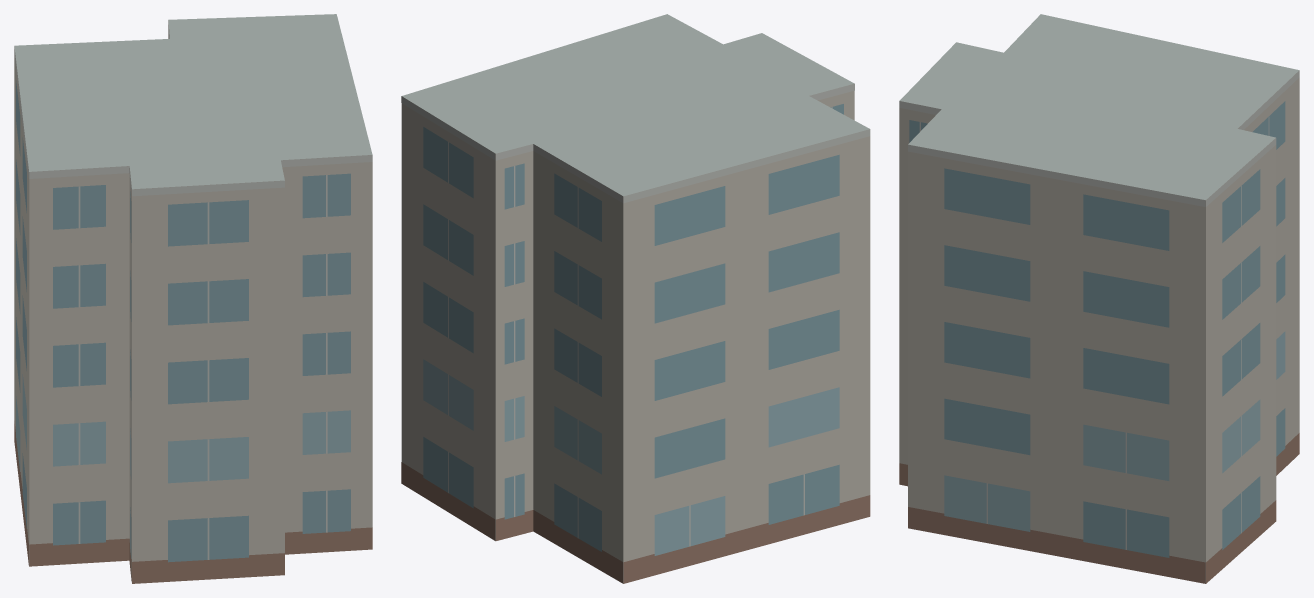
File: survey-upis-32756153.glb
3 renders of one model, left to right at view 1: azimuth 30°, elevation 25°; view 2: azimuth 150°, elevation 25°; view 3: azimuth 270°, elevation 25°, orthographic. The views are drawn at different scales.
Visible parts, largest first — view 1: survey-upis-32756153.tmp; view 2: survey-upis-32756153.tmp; view 3: survey-upis-32756153.tmp.
Part boxes in pixels (x1,y1,x2,y2): survey-upis-32756153.tmp: (14, 14, 372, 583); survey-upis-32756153.tmp: (401, 14, 870, 583); survey-upis-32756153.tmp: (899, 14, 1299, 583).
Size of the model in its own units: 14.06 by 13.5 by 12.77.
